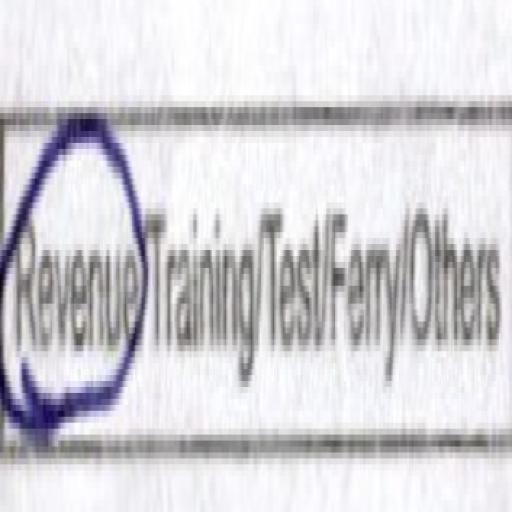check: (0, 42, 145, 476)
